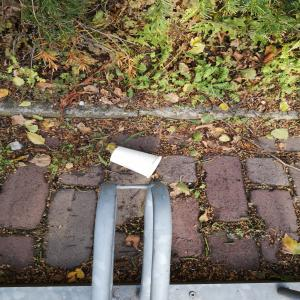Cup: (107, 144, 166, 182)
